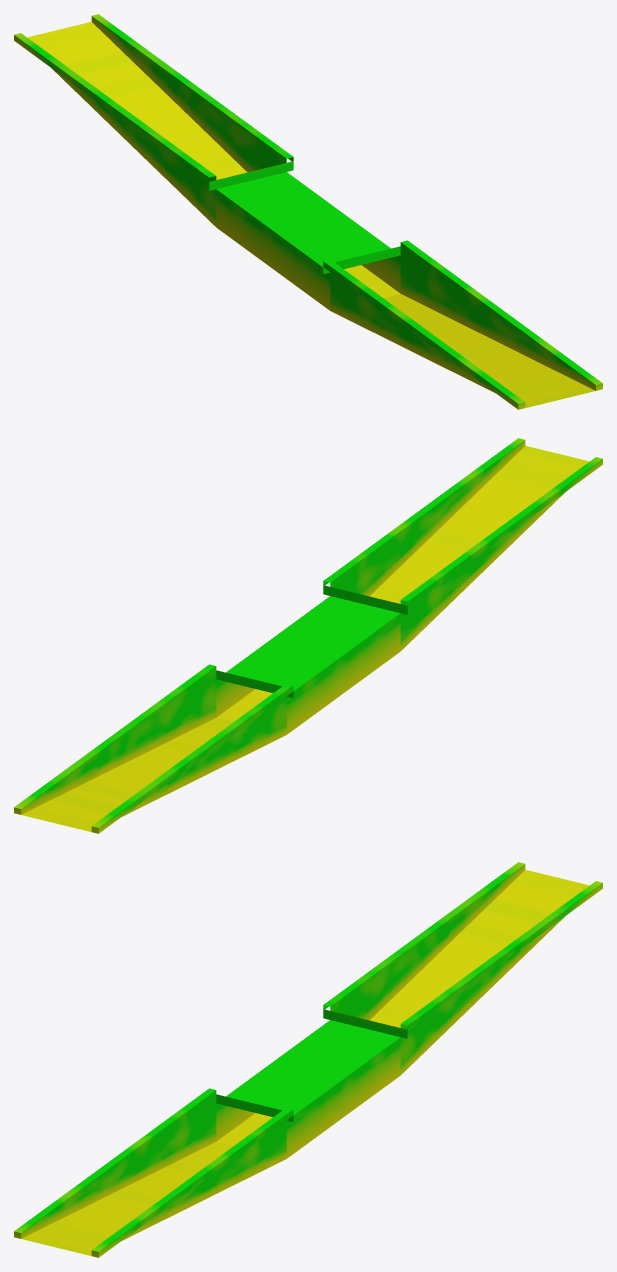
File: underpass.glb
3 renders of one model, top to bottom at view 1: azimuth 30°, elevation 25°; view 2: azimuth 150°, elevation 25°; view 3: azimuth 330°, elevation 25°, orthographic.
Parts seen in each view (by area): view 1: underpass.1, underpass.0, underpass.3, underpass.2; view 2: underpass.1, underpass.0, underpass.3, underpass.2; view 3: underpass.1, underpass.0, underpass.3, underpass.2.
Part boxes in pixels (bbox=[...]): underpass.1: bbox=[14, 14, 602, 409]; underpass.0: bbox=[27, 21, 595, 407]; underpass.3: bbox=[216, 172, 390, 266]; underpass.2: bbox=[216, 198, 400, 310]; underpass.1: bbox=[14, 438, 602, 833]; underpass.0: bbox=[21, 445, 589, 831]; underpass.3: bbox=[226, 596, 400, 690]; underpass.2: bbox=[216, 622, 400, 734]; underpass.1: bbox=[14, 862, 602, 1257]; underpass.0: bbox=[21, 869, 589, 1255]; underpass.3: bbox=[226, 1020, 400, 1114]; underpass.2: bbox=[216, 1046, 400, 1158].
Bounding box in the file's own units: 6 × 3.5 × 62.
